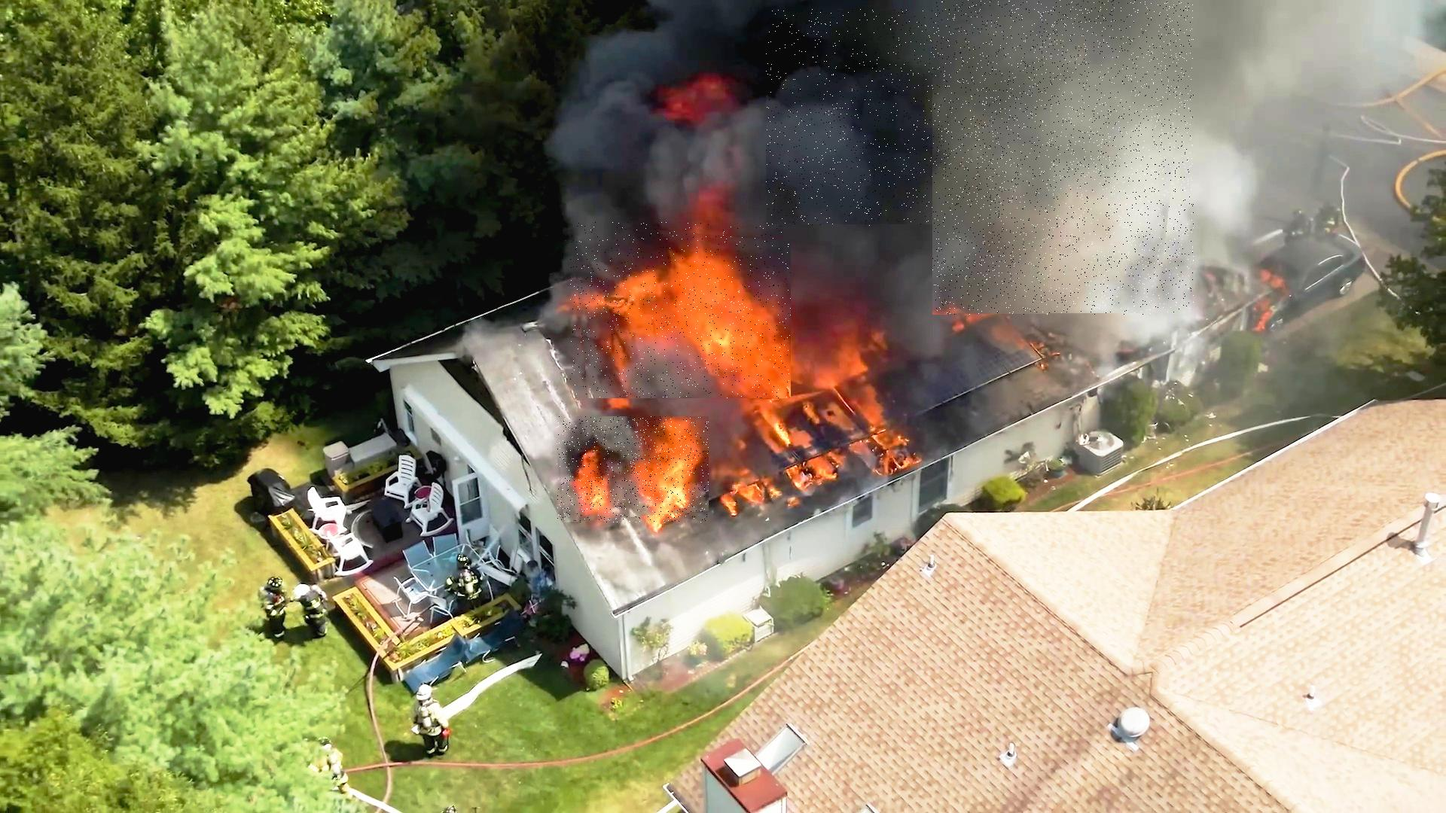fire: (570, 222, 791, 398), (556, 416, 709, 523)
smoke: (933, 0, 1194, 315), (766, 10, 1088, 226)
